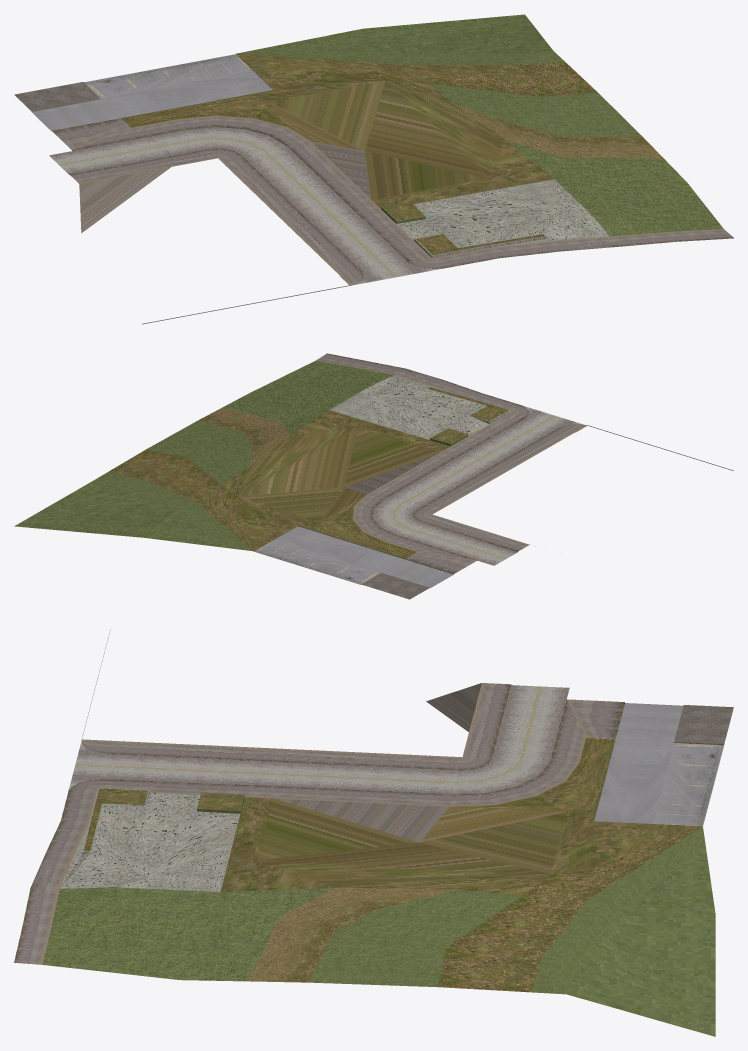
The model's file is s_lodbit_06_3.obj.
3 renders of one model, top to bottom at view 1: azimuth 30°, elevation 25°; view 2: azimuth 150°, elevation 25°; view 3: azimuth 270°, elevation 25°, orthographic. The views are drawn at different scales.
Parts seen in each view (by area): view 1: s_lodbit_06_3; view 2: s_lodbit_06_3; view 3: s_lodbit_06_3.
Part boxes in pixels (<box>): s_lodbit_06_3: <box>14,14,733,324</box>; s_lodbit_06_3: <box>14,353,733,599</box>; s_lodbit_06_3: <box>14,629,733,1036</box>.
Bounding box in the file's own units: 147 × 8.56 × 122.
15 materials, 15 textured.
